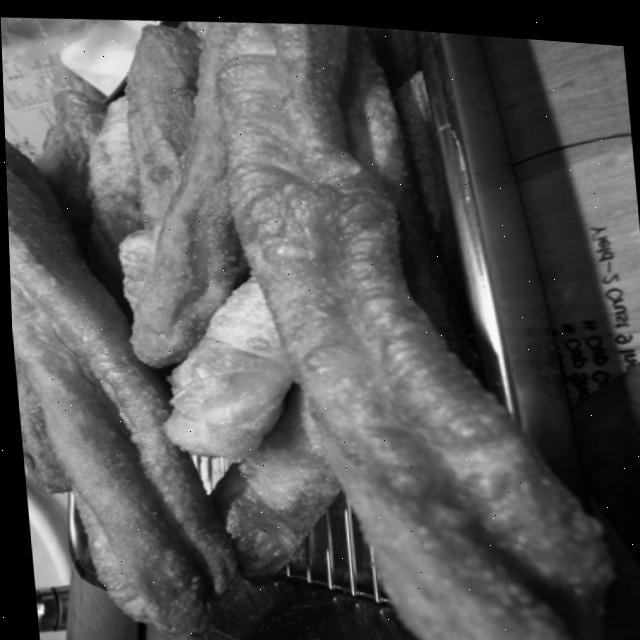炸货点心: (9, 9, 596, 640)
